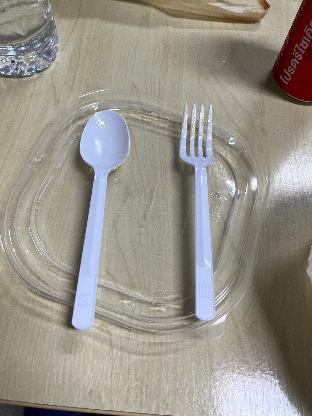Others: (65, 104, 137, 338), (166, 99, 228, 325)
